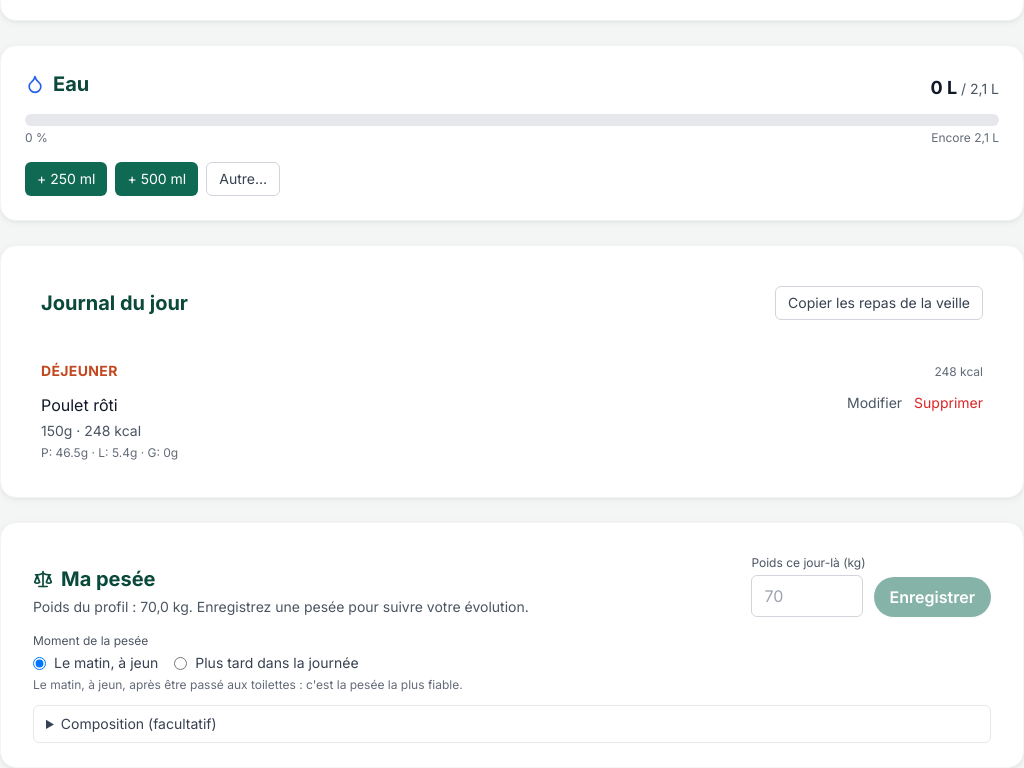
Dashboard › suppression › demande une confirmation dans la ligne (pas de fenêtre du navigateur) et ne supprime rien si on annule
(page scrolled)
Click the button with aria-label "Supprimer Poulet rôti" at (949, 403), box [914,393,983,413]
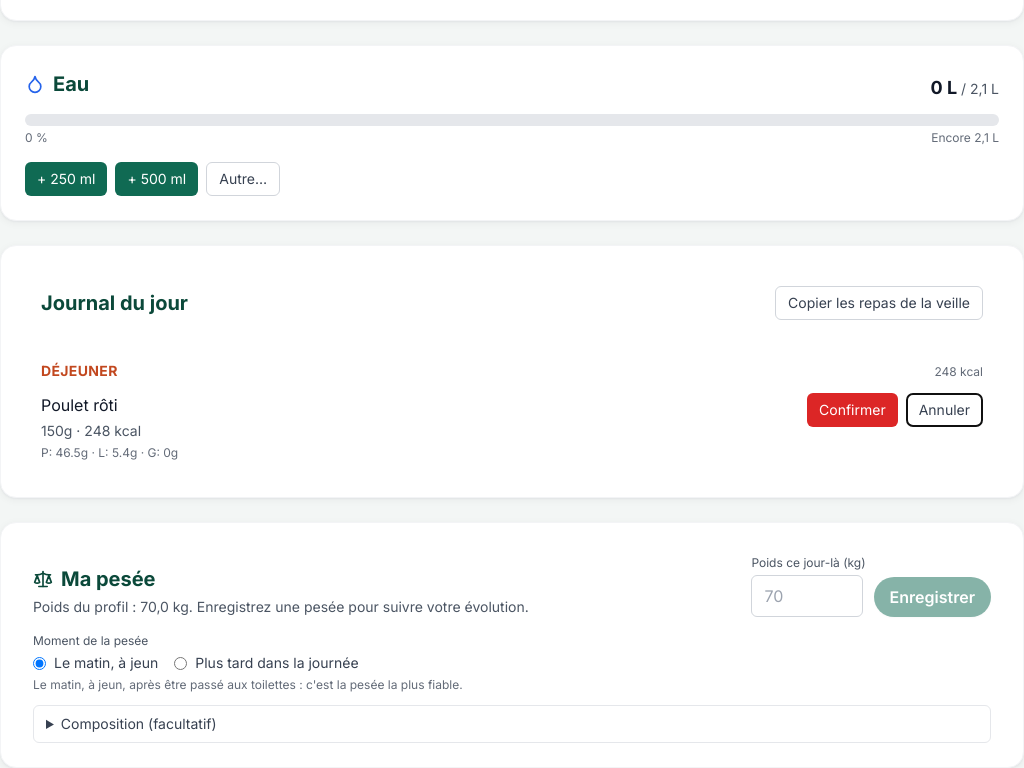
Check: the button with aria-label "Confirmer la suppression de « Poulet rôti »" is shown, box [807,393,898,427]
Click the button with aria-label "Annuler la suppression de « Poulet rôti »" at (944, 410), box [906,393,983,427]
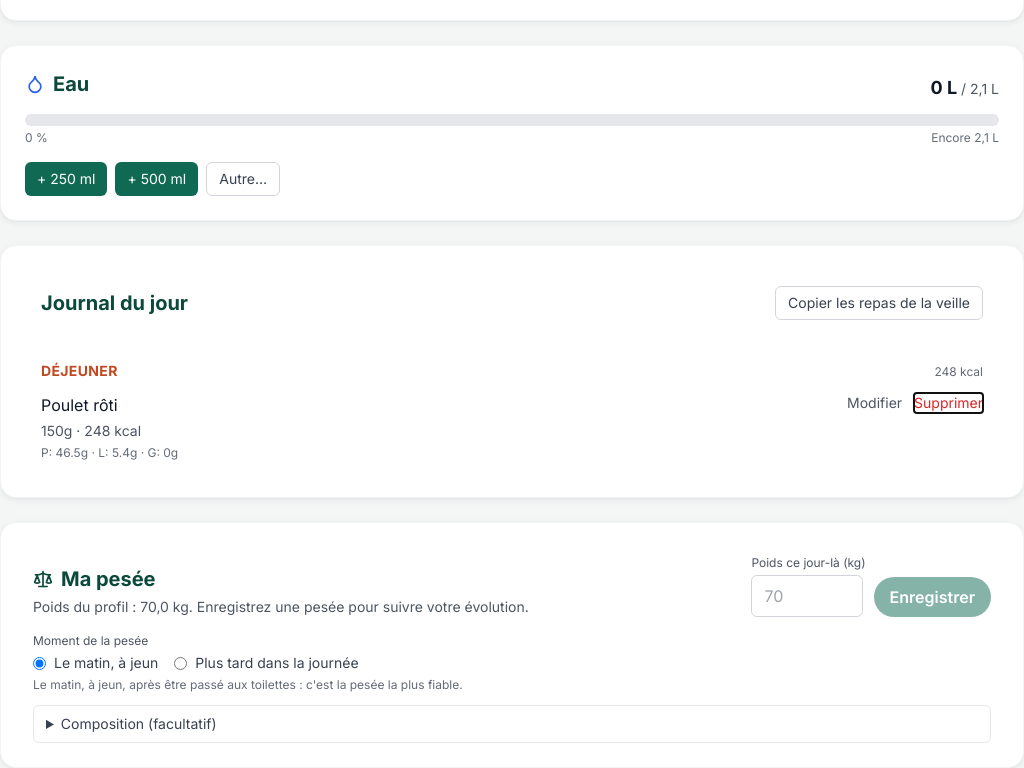
Check: the button with aria-label "Supprimer Poulet rôti" is shown, box [914,393,983,413]
